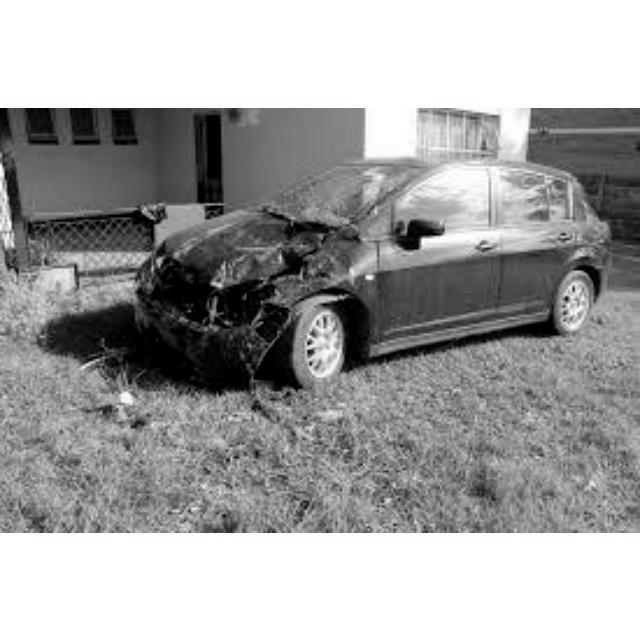bonnet-dent: (148, 216, 303, 274)
fender-dent: (275, 245, 368, 300)
front-bumper-dent: (138, 280, 245, 349)
